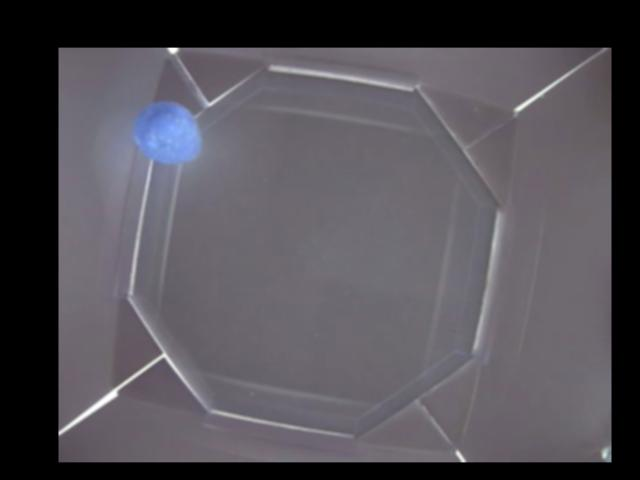Potato: (130, 98, 200, 162)
